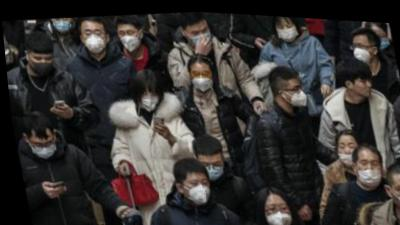NONE: (353, 67, 373, 94)
OK: (179, 172, 210, 206), (25, 132, 58, 162), (259, 197, 291, 225), (79, 24, 109, 53), (26, 48, 56, 77), (195, 153, 223, 181), (187, 22, 214, 49), (188, 64, 214, 91), (117, 24, 142, 51), (136, 84, 161, 111), (284, 76, 307, 105), (275, 17, 300, 41), (350, 35, 374, 60), (387, 172, 400, 212), (370, 26, 391, 47)
WRONG: (351, 150, 382, 184), (332, 134, 361, 164)
